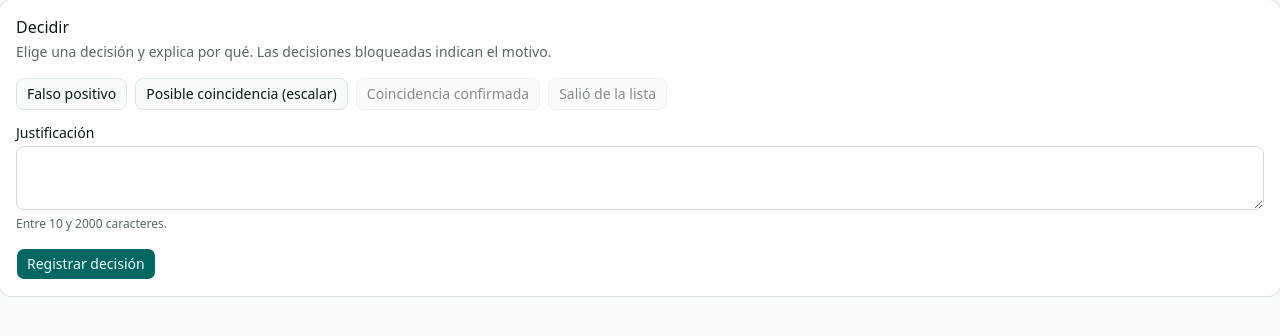
Scenario: DispositionForm › asks for a decision before sending
Type "El RFC y la fecha de nacimiento coinciden con el registro." into the text box labelled "Justificación" at (640, 178), box [16, 146, 1264, 210]
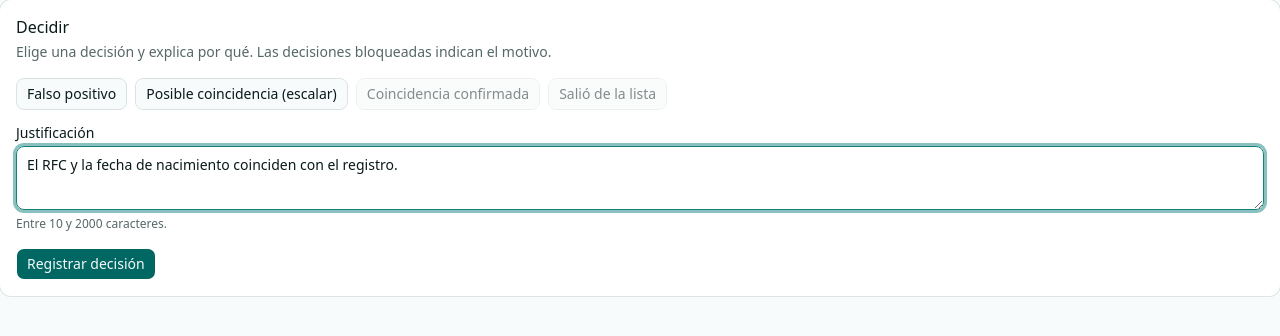
Click the button "Registrar decisión" at (86, 264), box [16, 248, 156, 280]
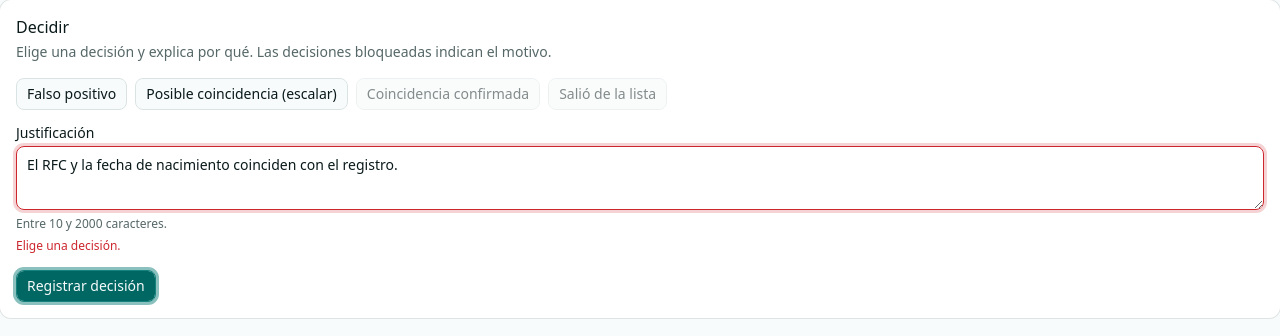
expect the text "Elige una decisión." is shown: met, box [16, 237, 121, 254]
